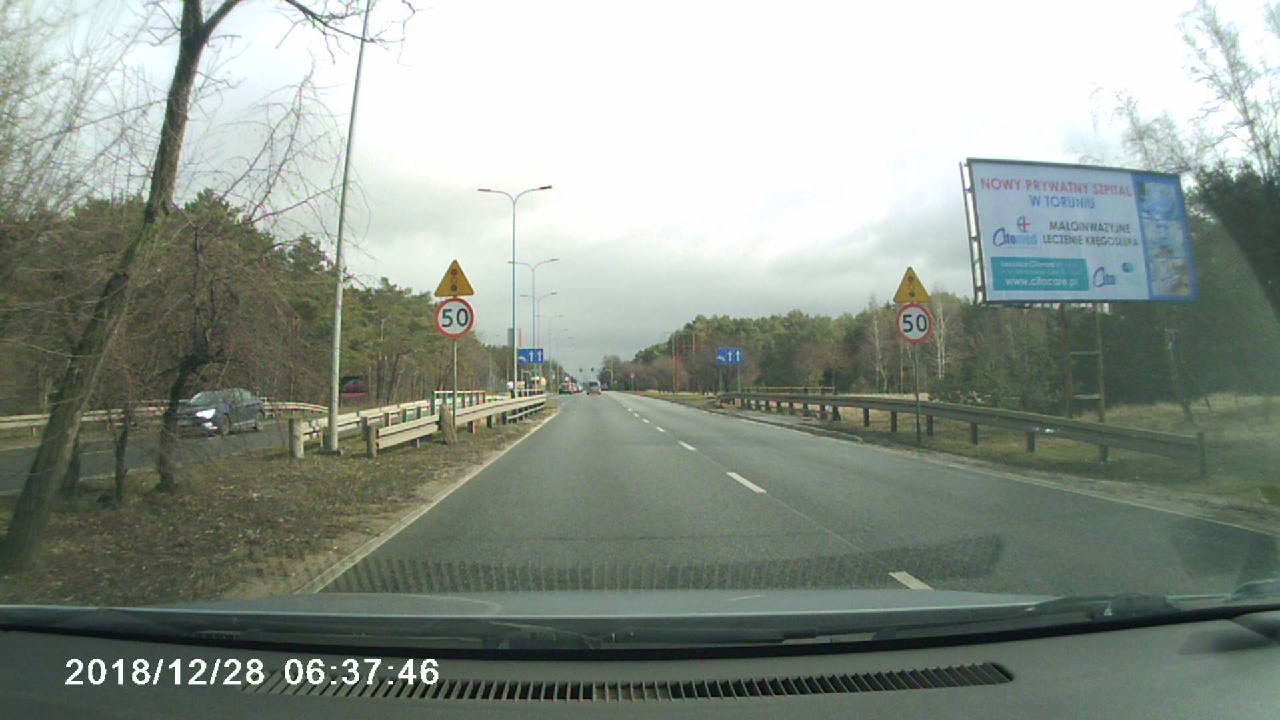A29: (429, 259, 480, 300), (891, 265, 932, 305)
B33_50: (433, 298, 480, 337), (892, 302, 937, 340)
